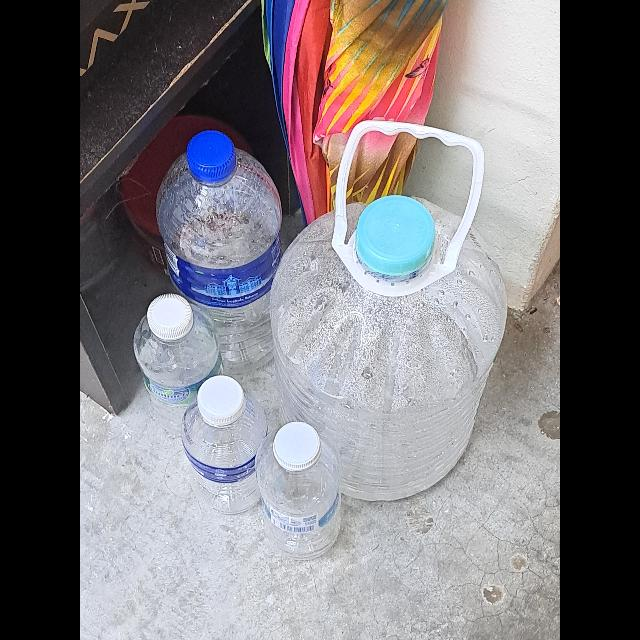garrafa plástica: (268, 195, 510, 503), (156, 146, 282, 372), (132, 304, 224, 438), (178, 393, 268, 515), (256, 436, 342, 562)
tampa plástica: (354, 194, 436, 276), (187, 129, 235, 183), (273, 421, 321, 473), (197, 376, 246, 426), (148, 293, 194, 341)
